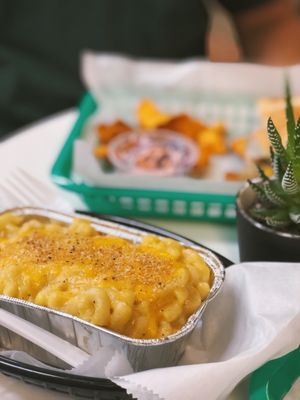sushi: (0, 200, 225, 371), (235, 176, 300, 264)
